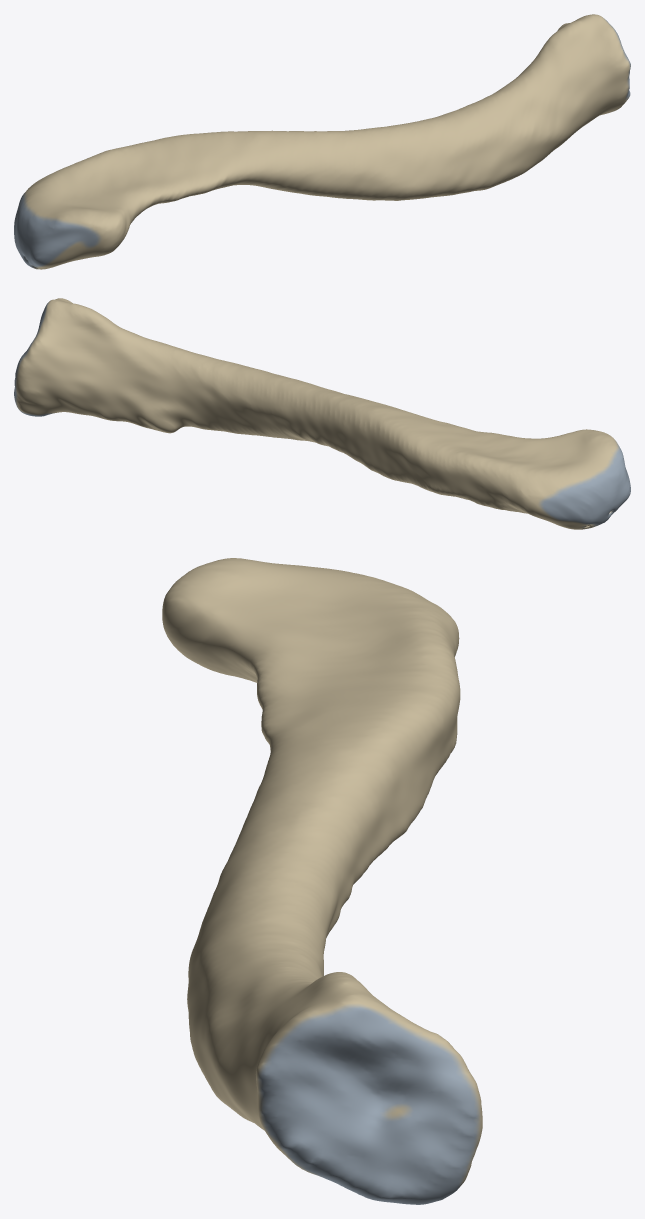
Rendered from clavicule_droite.glb.
3 renders of one model, top to bottom at view 1: azimuth 30°, elevation 25°; view 2: azimuth 150°, elevation 25°; view 3: azimuth 270°, elevation 25°, orthographic. The views are drawn at different scales.
Visible parts, largest first — view 1: Clavicule_droite; view 2: Clavicule_droite; view 3: Clavicule_droite.
Boxes of the visible parts, left/top/right/bottom form: Clavicule_droite: left=14, top=14, right=630, bottom=269; Clavicule_droite: left=14, top=298, right=630, bottom=529; Clavicule_droite: left=162, top=558, right=482, bottom=1204.
Size of the model in its own units: 0.1316 by 0.0244 by 0.032.
